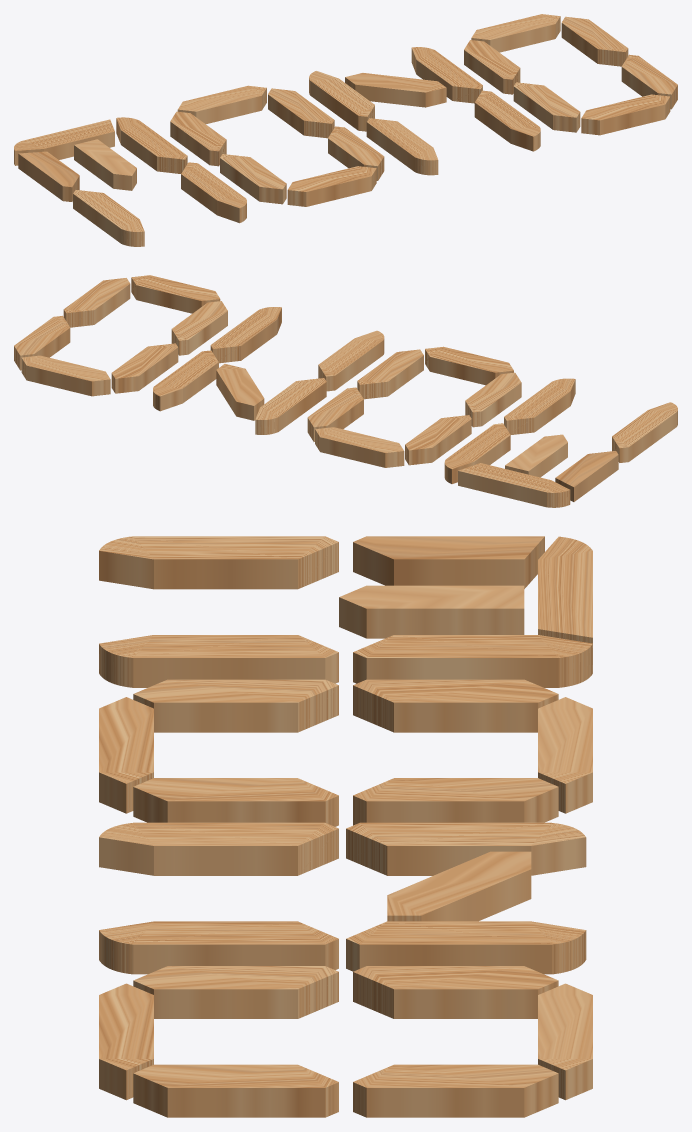
File: mono2.glb
3 renders of one model, top to bottom at view 1: azimuth 30°, elevation 25°; view 2: azimuth 150°, elevation 25°; view 3: azimuth 270°, elevation 25°, orthographic. The views are drawn at different scales.
Parts seen in each view (by area): view 1: Text; view 2: Text; view 3: Text.
Part boxes in pixels (box(x1,y1,x2,y2)): Text: box(14, 14, 677, 246); Text: box(14, 275, 677, 507); Text: box(99, 536, 592, 1117).
Size of the model in its own units: 1.98 by 0.05 by 0.75.
Materials: 1 (1 with a texture image).
